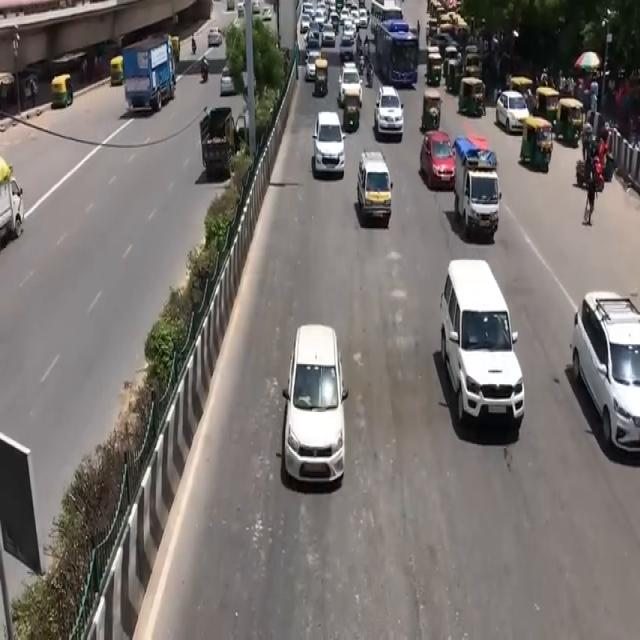BUS: (378, 23, 420, 89)
SED: (285, 327, 345, 487)
SUV: (448, 263, 522, 422)
TRUCK: (122, 36, 174, 120), (458, 157, 504, 242)
